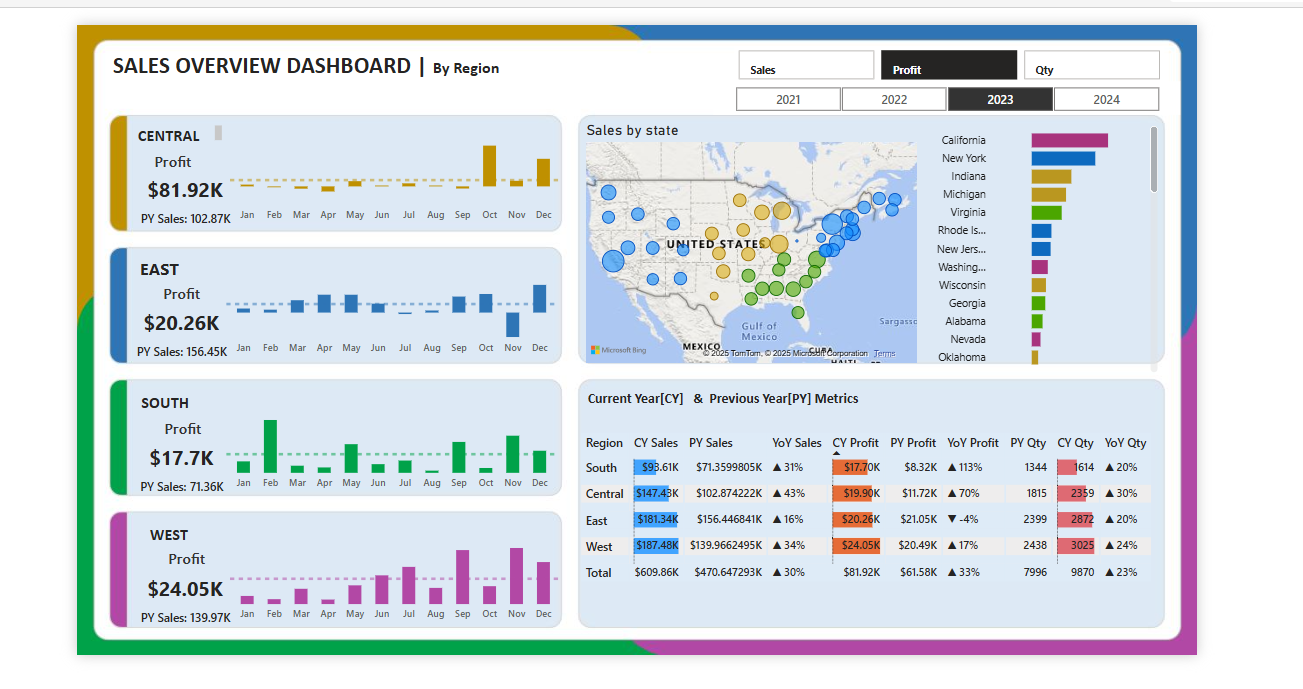

What the dashboard file says about the page in this screenshot:
{"tool":"powerbi","page":{"name":"Page 1","canvas":[1280,720],"ordinal":0},"visuals":[{"type":"card","fields":{"Values":["Sales Data.Total Profit"]},"box":[60,170,127.1,40],"z":0},{"type":"advancedSlicerVisual","fields":{"Values":["Select Metric .Select Metric "]},"box":[752,24.7,491.3,43.9],"z":1000},{"type":"textbox","box":[47.1,109.8,123.1,29],"z":2000},{"type":"slicer","fields":{"Values":["Calender Table.Year"]},"box":[727.5,63.9,533.2,38.6],"z":3000},{"type":"card","fields":{"Values":["Sales Data.Dynamic Title"]},"box":[73.6,138.7,71.2,37.4],"z":4000},{"type":"card","fields":{"Values":["Sales Data.PY KPI Sales"]},"box":[54.3,210,140,28.6],"z":5000},{"type":"clusteredColumnChart","fields":{"Y":["Sales Data.Total Profit"],"Category":["Calender Table.Month"]},"box":[170,105.7,388.6,128.6],"z":6000},{"type":"textbox","box":[30,24.3,464.3,81.4],"z":7000},{"type":"card","fields":{"Values":["Sales Data.Total Profit"]},"box":[55.1,321.7,127.1,40],"z":8000},{"type":"textbox","box":[42.9,261.4,102.9,47.1],"z":9000},{"type":"card","fields":{"Values":["Sales Data.Dynamic Title"]},"box":[84.3,290,71.4,37.1],"z":10000},{"type":"card","fields":{"Values":["Sales Data.PY KPI Sales"]},"box":[49.4,361.7,140,28.6],"z":11000},{"type":"clusteredColumnChart","fields":{"Y":["Sales Data.Total Profit"],"Category":["Calender Table.Month"]},"box":[165.1,257.4,388.6,128.6],"z":12000},{"type":"card","fields":{"Values":["Sales Data.Total Profit"]},"box":[56,475.7,127.1,40],"z":13000},{"type":"textbox","box":[44.3,415.7,112.9,47.1],"z":14000},{"type":"card","fields":{"Values":["Sales Data.Dynamic Title"]},"box":[85.1,444,71.4,37.1],"z":15000},{"type":"card","fields":{"Values":["Sales Data.PY KPI Sales"]},"box":[50.3,515.7,140,28.6],"z":16000},{"type":"clusteredColumnChart","fields":{"Y":["Sales Data.Total Profit"],"Category":["Calender Table.Month"]},"box":[166,411.4,388.6,128.6],"z":17000},{"type":"card","fields":{"Values":["Sales Data.Total Profit"]},"box":[60.3,625.1,127.1,40],"z":18000},{"type":"textbox","box":[48.6,565.1,112.9,47.1],"z":19000},{"type":"card","fields":{"Values":["Sales Data.Dynamic Title"]},"box":[89.4,593.4,71.4,37.1],"z":20000},{"type":"card","fields":{"Values":["Sales Data.PY KPI Sales"]},"box":[54.6,665.1,140,28.6],"z":21000},{"type":"clusteredColumnChart","fields":{"Y":["Sales Data.Total Profit"],"Category":["Calender Table.Month"]},"box":[170.3,560.9,388.6,128.6],"z":22000},{"type":"map","title":"Sales by state","fields":{"Size":["Sales Data.Total Profit"],"Category":["Sales Data.State/Province"],"Series":["Sales Data.Region"]},"box":[577.7,109.8,388.3,281.3],"z":23000},{"type":"barChart","fields":{"Y":["Sales Data.Total Profit"],"Category":["Sales Data.State/Province"],"Series":["Sales Data.Region"]},"box":[966,102.9,274.4,299.1],"z":24000},{"type":"pivotTable","fields":{"Rows":["Sales Data.Region"],"Values":["Sales Data.CY Sales","Sales Data.PY Sales","Sales Data.YoY Sales","Sales Data.CY Profit","Sales Data.PY Profit","Sales Data.YoY Profit","Sales Data.PY Qty","Sales Data.CY Qty","Sales Data.YoY Qty"]},"box":[571.9,462.1,670.8,224.4],"z":25000},{"type":"textbox","box":[577.9,411.4,419.8,51.9],"z":26000}]}

Visuals, with their boxes on the page's 1280x720 design canvas (x1, y1, x2, y2). These are canvas units, not pixel positions in the 1303x689 screenshot, which may show the page scaled, cropped or inside an application window:
card - Sales Data.Total Profit: {"x1": 60, "y1": 170, "x2": 187, "y2": 210}
advancedSlicerVisual - Select Metric .Select Metric : {"x1": 752, "y1": 25, "x2": 1243, "y2": 69}
textbox: {"x1": 47, "y1": 110, "x2": 170, "y2": 139}
slicer - Calender Table.Year: {"x1": 728, "y1": 64, "x2": 1261, "y2": 102}
card - Sales Data.Dynamic Title: {"x1": 74, "y1": 139, "x2": 145, "y2": 176}
card - Sales Data.PY KPI Sales: {"x1": 54, "y1": 210, "x2": 194, "y2": 239}
clusteredColumnChart - Sales Data.Total Profit x Calender Table.Month: {"x1": 170, "y1": 106, "x2": 559, "y2": 234}
textbox: {"x1": 30, "y1": 24, "x2": 494, "y2": 106}
card - Sales Data.Total Profit: {"x1": 55, "y1": 322, "x2": 182, "y2": 362}
textbox: {"x1": 43, "y1": 261, "x2": 146, "y2": 308}
card - Sales Data.Dynamic Title: {"x1": 84, "y1": 290, "x2": 156, "y2": 327}
card - Sales Data.PY KPI Sales: {"x1": 49, "y1": 362, "x2": 189, "y2": 390}
clusteredColumnChart - Sales Data.Total Profit x Calender Table.Month: {"x1": 165, "y1": 257, "x2": 554, "y2": 386}
card - Sales Data.Total Profit: {"x1": 56, "y1": 476, "x2": 183, "y2": 516}
textbox: {"x1": 44, "y1": 416, "x2": 157, "y2": 463}
card - Sales Data.Dynamic Title: {"x1": 85, "y1": 444, "x2": 156, "y2": 481}
card - Sales Data.PY KPI Sales: {"x1": 50, "y1": 516, "x2": 190, "y2": 544}
clusteredColumnChart - Sales Data.Total Profit x Calender Table.Month: {"x1": 166, "y1": 411, "x2": 555, "y2": 540}
card - Sales Data.Total Profit: {"x1": 60, "y1": 625, "x2": 187, "y2": 665}
textbox: {"x1": 49, "y1": 565, "x2": 162, "y2": 612}
card - Sales Data.Dynamic Title: {"x1": 89, "y1": 593, "x2": 161, "y2": 630}
card - Sales Data.PY KPI Sales: {"x1": 55, "y1": 665, "x2": 195, "y2": 694}
clusteredColumnChart - Sales Data.Total Profit x Calender Table.Month: {"x1": 170, "y1": 561, "x2": 559, "y2": 690}
"Sales by state" map: {"x1": 578, "y1": 110, "x2": 966, "y2": 391}
barChart - Sales Data.Total Profit x Sales Data.State/Province: {"x1": 966, "y1": 103, "x2": 1240, "y2": 402}
pivotTable - Sales Data.Region x Sales Data.CY Sales: {"x1": 572, "y1": 462, "x2": 1243, "y2": 686}
textbox: {"x1": 578, "y1": 411, "x2": 998, "y2": 463}
